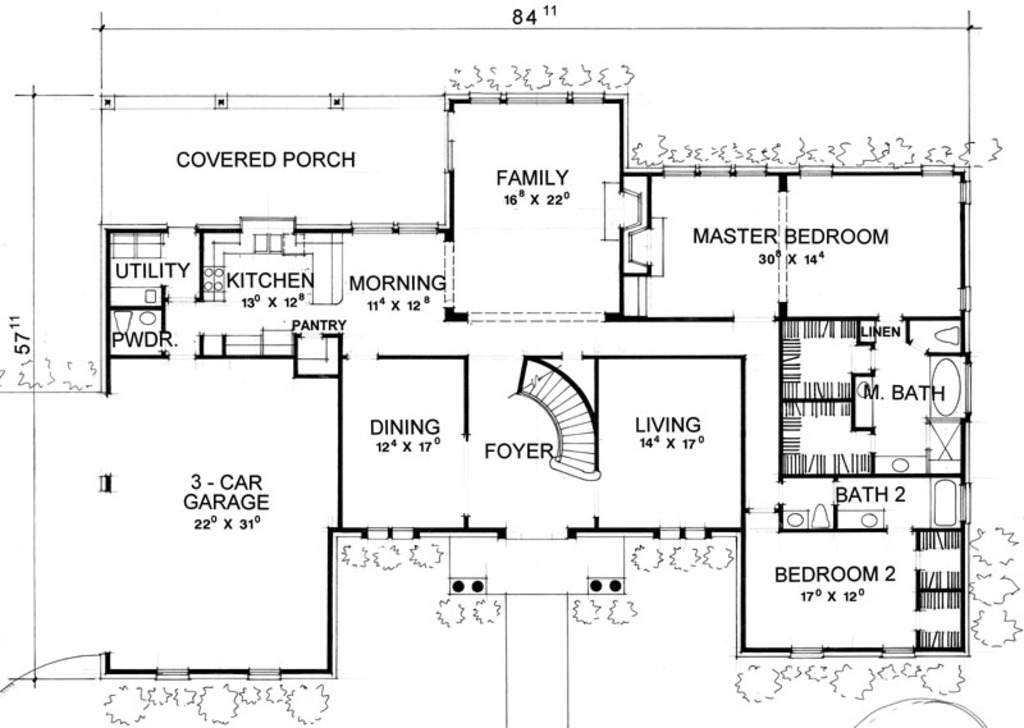large_sink: (927, 323, 962, 348), (808, 499, 833, 530), (112, 309, 132, 335)
small_sink: (834, 503, 887, 532), (870, 455, 925, 479), (781, 507, 807, 533)
stairs: (520, 361, 604, 479)
tub: (927, 356, 971, 417), (931, 477, 966, 528)
windows: (464, 88, 607, 111), (342, 217, 438, 237), (661, 160, 766, 177), (655, 526, 713, 544), (151, 664, 195, 684), (361, 527, 415, 541), (241, 670, 285, 679)
